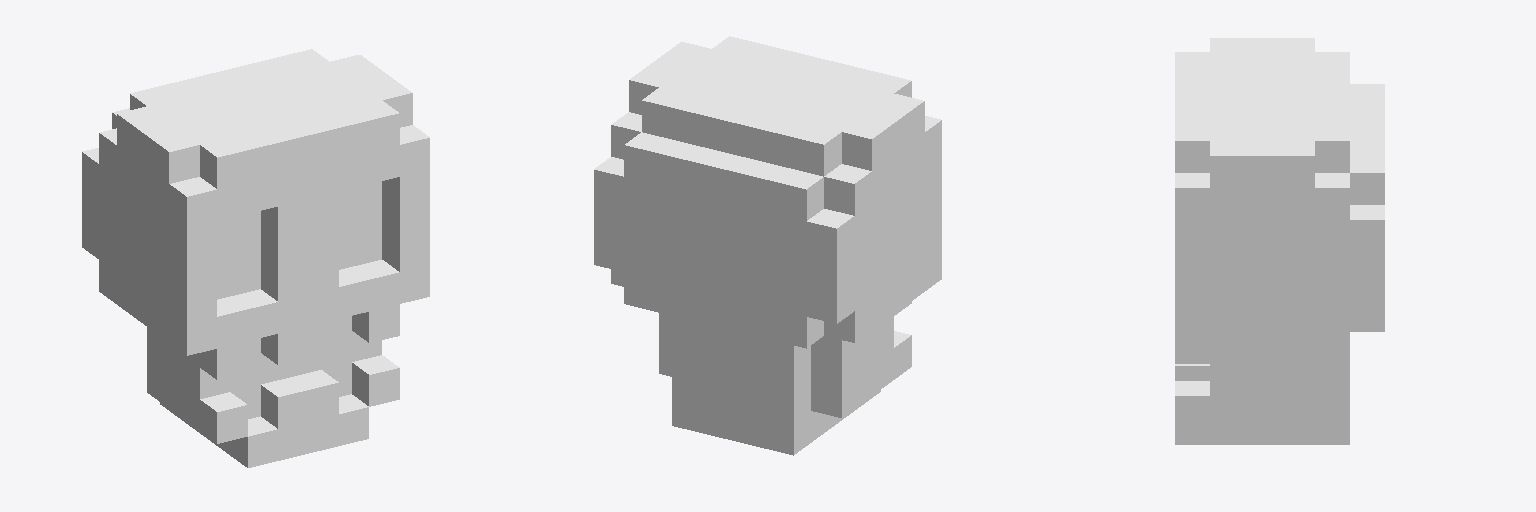
The model's file is SkullClosedMouth.obj.
3 renders of one model, left to right at view 1: azimuth 30°, elevation 25°; view 2: azimuth 150°, elevation 25°; view 3: azimuth 270°, elevation 25°, orthographic.
Parts seen in each view (by area): view 1: SkullClosedMouth; view 2: SkullClosedMouth; view 3: SkullClosedMouth.
Part boxes in pixels (bbox=[...]): SkullClosedMouth: bbox=[82, 49, 429, 467]; SkullClosedMouth: bbox=[594, 36, 941, 455]; SkullClosedMouth: bbox=[1175, 38, 1384, 444].
Size of the model in its own units: 8 by 10 by 6.